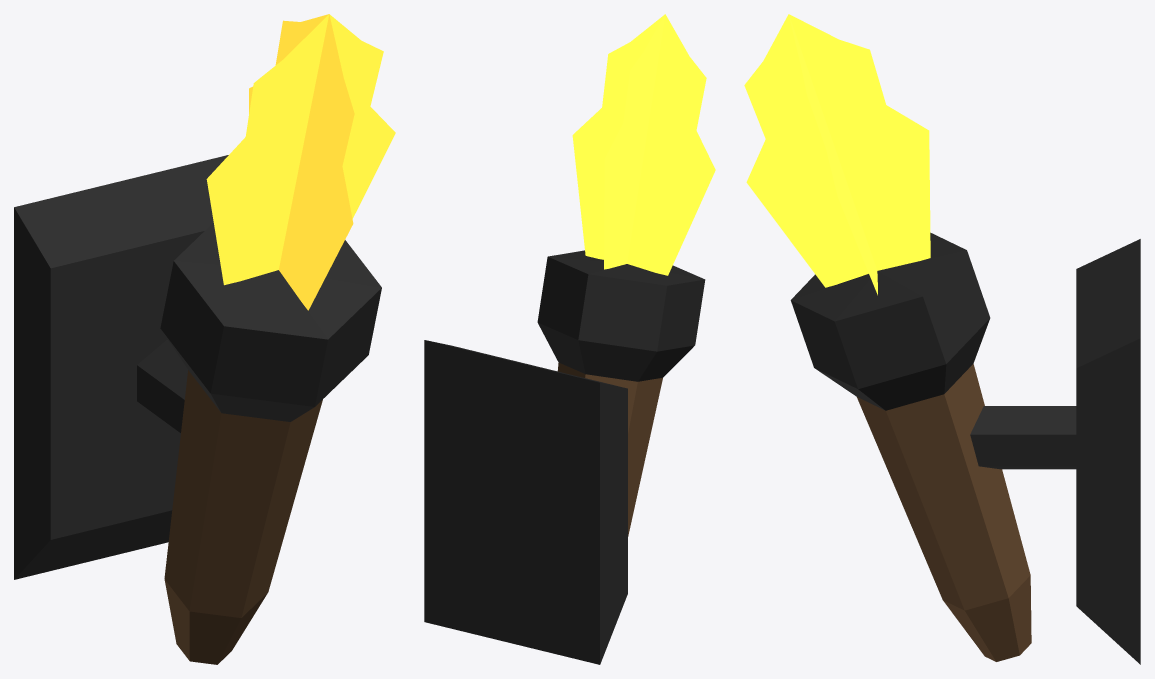
The model's file is torche-wall.glb.
3 renders of one model, left to right at view 1: azimuth 30°, elevation 25°; view 2: azimuth 150°, elevation 25°; view 3: azimuth 270°, elevation 25°, orthographic. The views are drawn at different scales.
Parts seen in each view (by area): view 1: torche-wall; view 2: torche-wall; view 3: torche-wall.
Boxes of the visible parts, x1,y1,x2,y2 form: torche-wall: (14,14,395,664); torche-wall: (424,14,715,664); torche-wall: (744,14,1140,664).
Bounding box in the file's own units: 0.22 × 0.6629 × 0.3706.
Materials: 1 (1 with a texture image).
